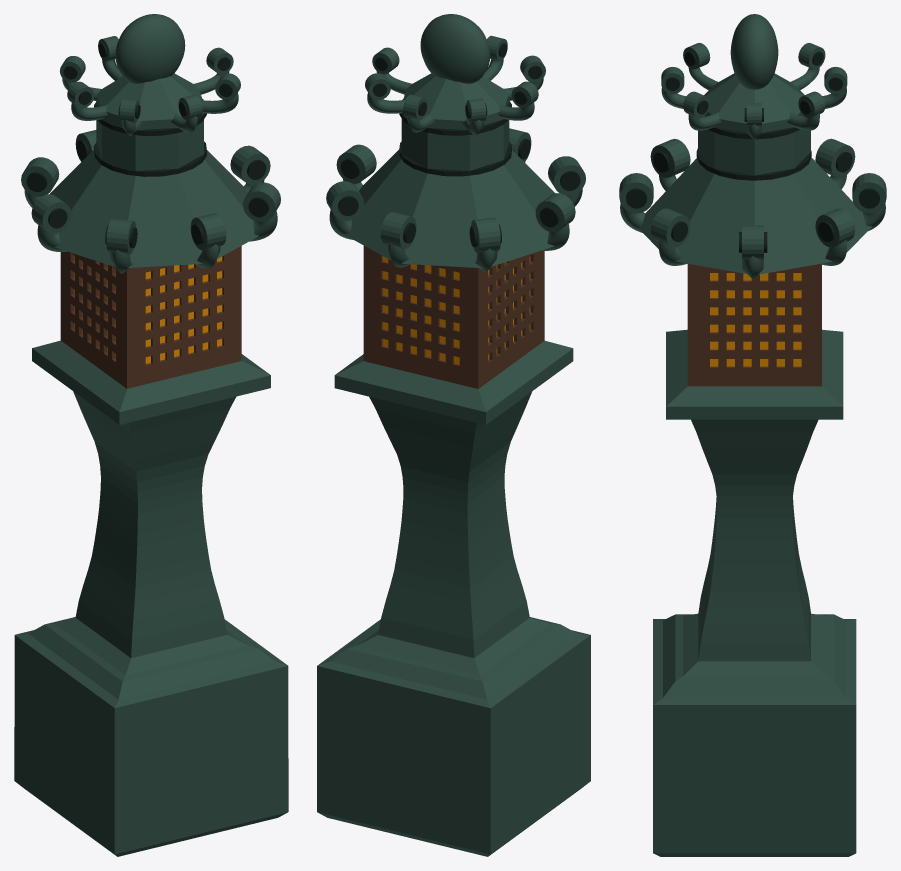
Rendered from LanternTower.fbx.
3 views of the same model, side by side, from view 1: azimuth 30°, elevation 25°; view 2: azimuth 150°, elevation 25°; view 3: azimuth 270°, elevation 25° (orthographic).
Parts seen in each view (by area): view 1: Cube, Cone, Cube.001, Sphere, Cube.002, Cylinder.032, Cylinder.007, Cylinder.004, Cylinder, Cylinder.011, Cylinder.008, Cylinder.012; view 2: Cube, Cone, Cube.001, Sphere, Cube.002, Cylinder.032, Cylinder.007, Cylinder.004, Cylinder.003, Cylinder.015, Cylinder.012, Cylinder.008; view 3: Cube, Cone, Cube.001, Sphere, Cube.002, Cylinder.032, Cylinder.015, Cylinder.012, Cylinder.011, Cylinder.008, Cylinder, Cylinder.003 (+1 smaller).
Part boxes in pixels (box(x1,y1,x2,y2)): Cube: box(14, 340, 288, 856); Cone: box(49, 73, 259, 267); Cube.001: box(60, 246, 241, 388); Sphere: box(115, 14, 185, 83); Cube.002: box(74, 255, 222, 363); Cylinder.032: box(94, 99, 206, 176); Cylinder.007: box(31, 194, 71, 233); Cylinder.004: box(230, 145, 270, 184); Cylinder: box(190, 213, 226, 250); Cylinder.011: box(243, 182, 280, 221); Cylinder.008: box(21, 157, 59, 196); Cylinder.012: box(106, 218, 136, 254); Cube: box(317, 340, 590, 856); Cone: box(344, 73, 555, 268); Cube.001: box(363, 245, 544, 388); Sphere: box(420, 14, 490, 83); Cube.002: box(382, 256, 530, 364); Cylinder.032: box(399, 99, 511, 176); Cylinder.007: box(535, 193, 575, 232); Cylinder.004: box(336, 144, 376, 183); Cylinder.003: box(381, 212, 416, 249); Cylinder.015: box(326, 181, 364, 220); Cylinder.012: box(548, 156, 585, 195); Cylinder.008: box(471, 217, 500, 252); Cube: box(653, 329, 856, 856); Cone: box(637, 73, 872, 274); Cube.001: box(687, 263, 821, 386); Sphere: box(730, 14, 778, 89); Cube.002: box(710, 273, 801, 366); Cylinder.032: box(696, 127, 811, 180); Cylinder.015: box(815, 208, 855, 247); Cylinder.012: box(650, 138, 690, 177); Cylinder.011: box(650, 208, 690, 247); Cylinder.008: box(815, 138, 855, 177); Cylinder: box(619, 173, 653, 213); Cylinder.003: box(852, 173, 886, 213).
Size of the model in its own units: 693 by 2287 by 693.
